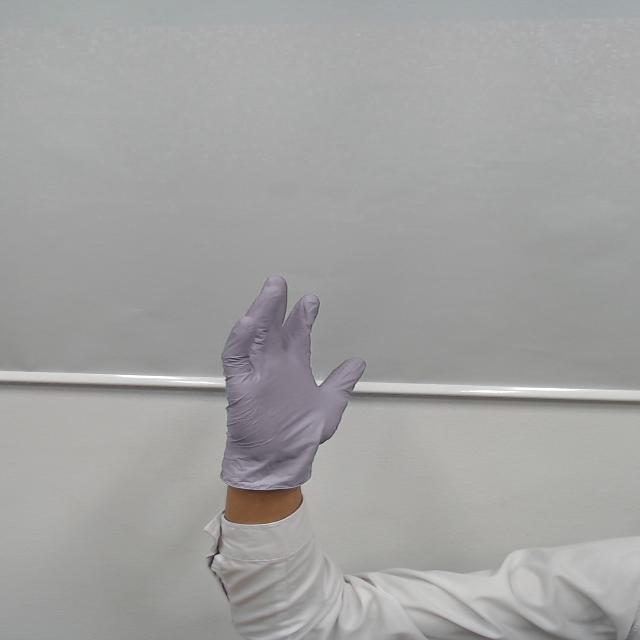glove: (193, 262, 387, 430)
